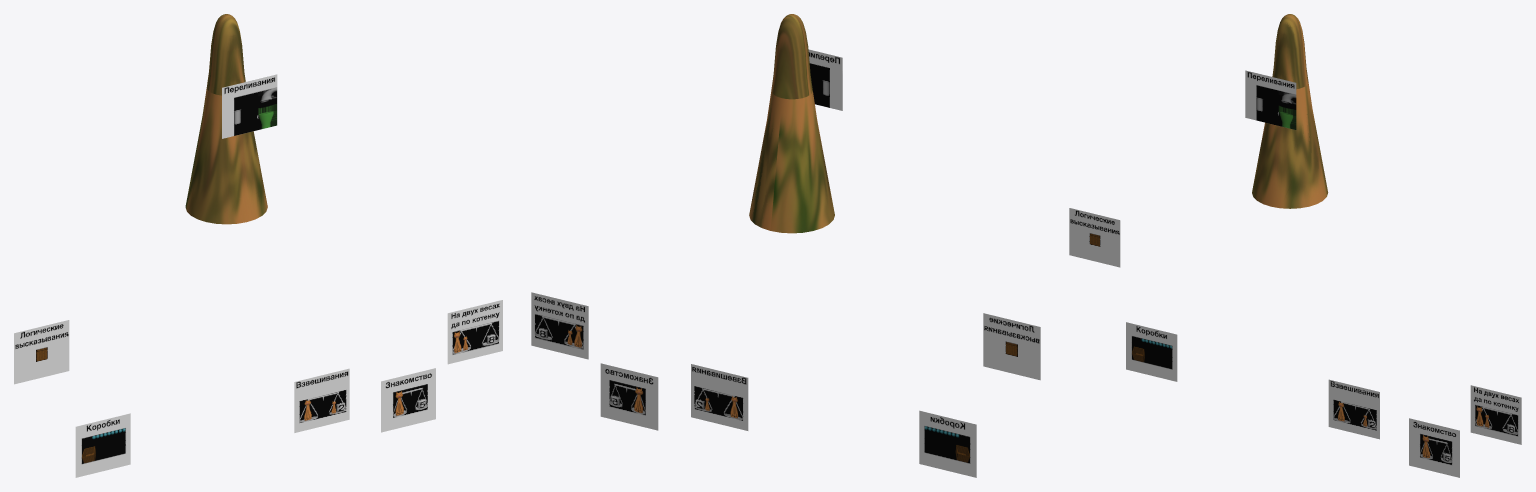
The model's file is Tree_1.FBX.
The picture shows the model from 3 angles, left to right: view 1: azimuth 30°, elevation 25°; view 2: azimuth 150°, elevation 25°; view 3: azimuth 330°, elevation 25°; orthographic projection. The views are drawn at different scales.
Visible parts, largest first — view 1: Cone001, Plane004, Plane001, Plane002, Plane003, Plane006, Plane005; view 2: Cone001, Plane005, Plane002, Plane003, Plane006, Plane001, Plane004; view 3: Cone001, Plane003, Plane006, Plane001, Plane002, Plane004, Plane005.
Boxes of the visible parts, bbox=[...] form: Cone001: bbox=[185, 14, 267, 224]; Plane004: bbox=[222, 74, 277, 138]; Plane001: bbox=[294, 368, 349, 432]; Plane002: bbox=[75, 413, 130, 477]; Plane003: bbox=[14, 320, 69, 384]; Plane006: bbox=[447, 300, 502, 364]; Plane005: bbox=[381, 368, 435, 432]; Cone001: bbox=[749, 14, 834, 233]; Plane005: bbox=[600, 363, 658, 430]; Plane002: bbox=[919, 410, 976, 477]; Plane003: bbox=[983, 313, 1040, 380]; Plane006: bbox=[531, 292, 588, 359]; Plane001: bbox=[691, 364, 748, 430]; Plane004: bbox=[808, 49, 842, 110]; Cone001: bbox=[1252, 14, 1328, 208]; Plane003: bbox=[1069, 208, 1120, 267]; Plane006: bbox=[1470, 385, 1521, 444]; Plane001: bbox=[1328, 379, 1379, 439]; Plane002: bbox=[1126, 322, 1177, 381]; Plane004: bbox=[1245, 70, 1296, 129]; Plane005: bbox=[1409, 418, 1459, 477].
Bounding box in the file's own units: 440 × 381 × 66.19.
Materials: 8 (8 with a texture image).
